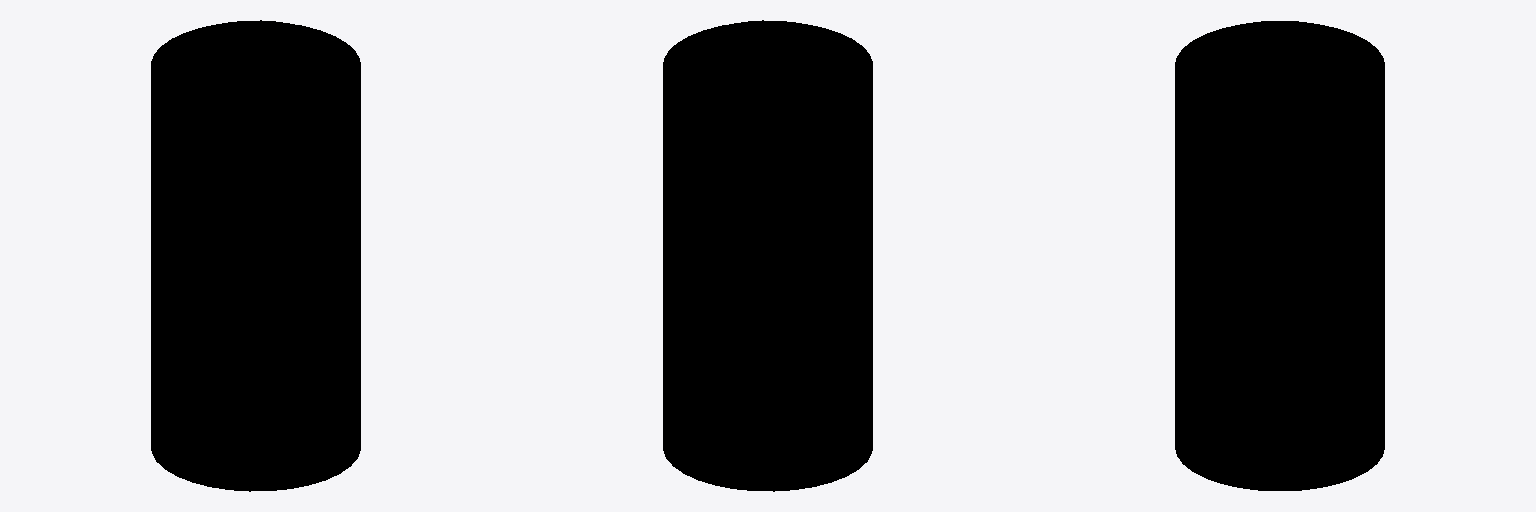
The robot description file, URDF, robot "glass_shelf_with_qr":
<?xml version="1.0"?>
<robot name="glass_shelf_with_qr">

  <link name="base_link">
    <visual>
      <geometry>
        <cylinder radius="0.05" length="0.2"/>
      </geometry>
      <material name="black glass">
        <color rgba="0.0 0.0 0.0 1"/>
      </material>
    </visual>
    <collision>
      <geometry>
        <cylinder radius="0.05" length="0.2"/>
      </geometry>
    </collision>
  </link>

  <joint name="fixed_joint" type="fixed">
    <parent link="base_link"/>
    <child link="top_link"/>
    <origin rpy="0 0 0" xyz="0 0 0.1"/>
  </joint>

  <link name="top_link">
    <visual>
      <geometry>
        <cylinder radius="0.04" length="0.01"/>
      </geometry>
      <material name="glass">
        <color rgba="0.0 0.0 0.0 1"/>
      </material>
    </visual>
    <collision>
      <geometry>
        <cylinder radius="0.04" length="0.01"/>
      </geometry>
    </collision>
  </link>

</robot>

--- Facts derived from the render (not from the file) ---
Views: 3 orthographic renders of the robot side by side, from view 1: azimuth 30°, elevation 25°; view 2: azimuth 150°, elevation 25°; view 3: azimuth 270°, elevation 25°.
Robot: glass_shelf_with_qr — 2 links, 1 joints (1 fixed); root link base_link; default pose: every joint at zero.
Visible links, largest first — view 1: base_link, top_link; view 2: base_link, top_link; view 3: base_link, top_link.
Boxes of the visible links, <box> form: base_link: <box>151,23,360,491</box>; top_link: <box>172,20,339,100</box>; base_link: <box>663,23,872,491</box>; top_link: <box>684,20,851,100</box>; base_link: <box>1175,24,1384,490</box>; top_link: <box>1196,21,1363,100</box>.
Size in the robot's own frame: 0.1 by 0.1 by 0.205 metres.
Geometry: primitives only (box / cylinder / sphere), no mesh files.
